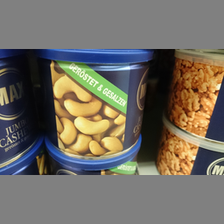nuts: (35, 50, 155, 161), (165, 50, 224, 143)
